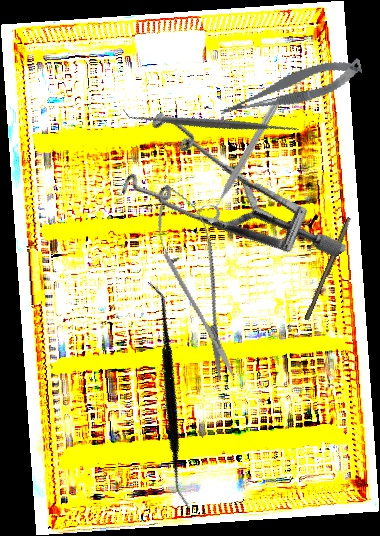Fixation Ring: (195, 96, 283, 226)
Micro Scissor: (143, 177, 252, 387), (214, 53, 367, 123)
Scalpel Handle: (304, 216, 353, 322)
Spatula Surgical: (61, 280, 275, 508), (122, 31, 305, 215)
Speculum: (97, 65, 349, 333)
